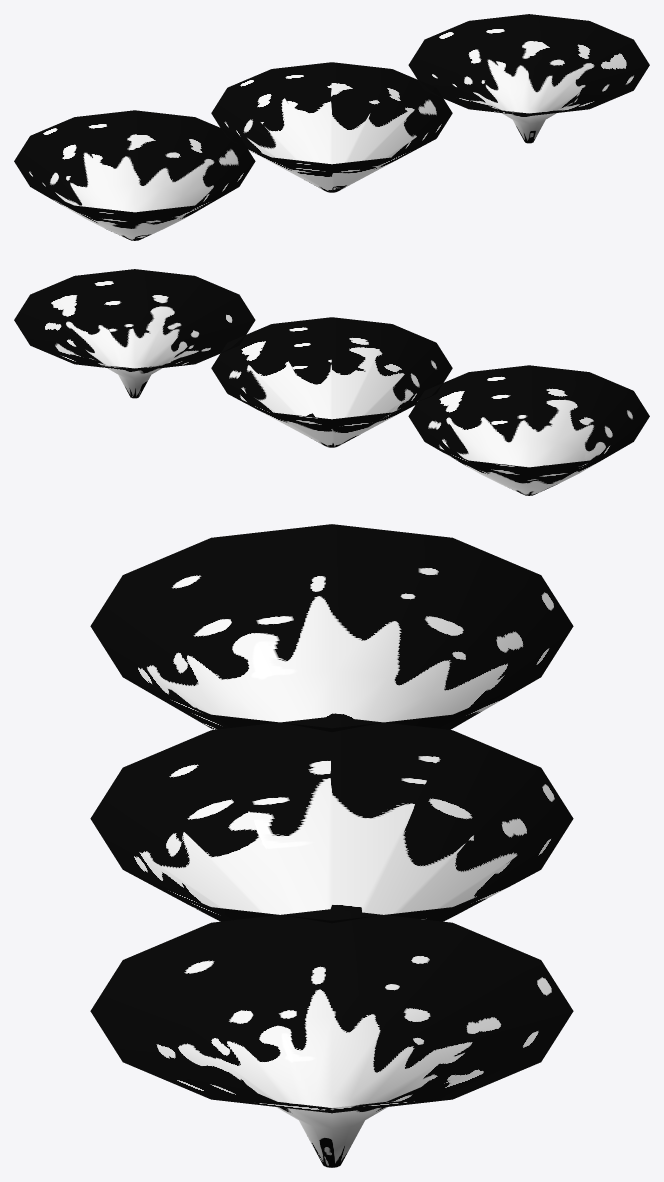
The model's file is Toon_Splash_Particles.fbx.
3 renders of one model, top to bottom at view 1: azimuth 30°, elevation 25°; view 2: azimuth 150°, elevation 25°; view 3: azimuth 270°, elevation 25°, orthographic. The views are drawn at different scales.
Visible parts, largest first — view 1: Splash_Bowl, Splash_Cone, Splash_Horn; view 2: Splash_Bowl, Splash_Cone, Splash_Horn; view 3: Splash_Horn, Splash_Bowl, Splash_Cone.
Boxes of the visible parts, x1,y1,x2,y2 form: Splash_Bowl: [14, 110, 255, 240]; Splash_Cone: [211, 62, 452, 192]; Splash_Horn: [408, 14, 649, 143]; Splash_Bowl: [408, 365, 649, 495]; Splash_Cone: [211, 317, 452, 447]; Splash_Horn: [14, 269, 255, 398]; Splash_Horn: [90, 909, 573, 1167]; Splash_Bowl: [90, 524, 573, 731]; Splash_Cone: [90, 716, 573, 923].
Bounding box in the file's own units: 612 × 73.99 × 212.
